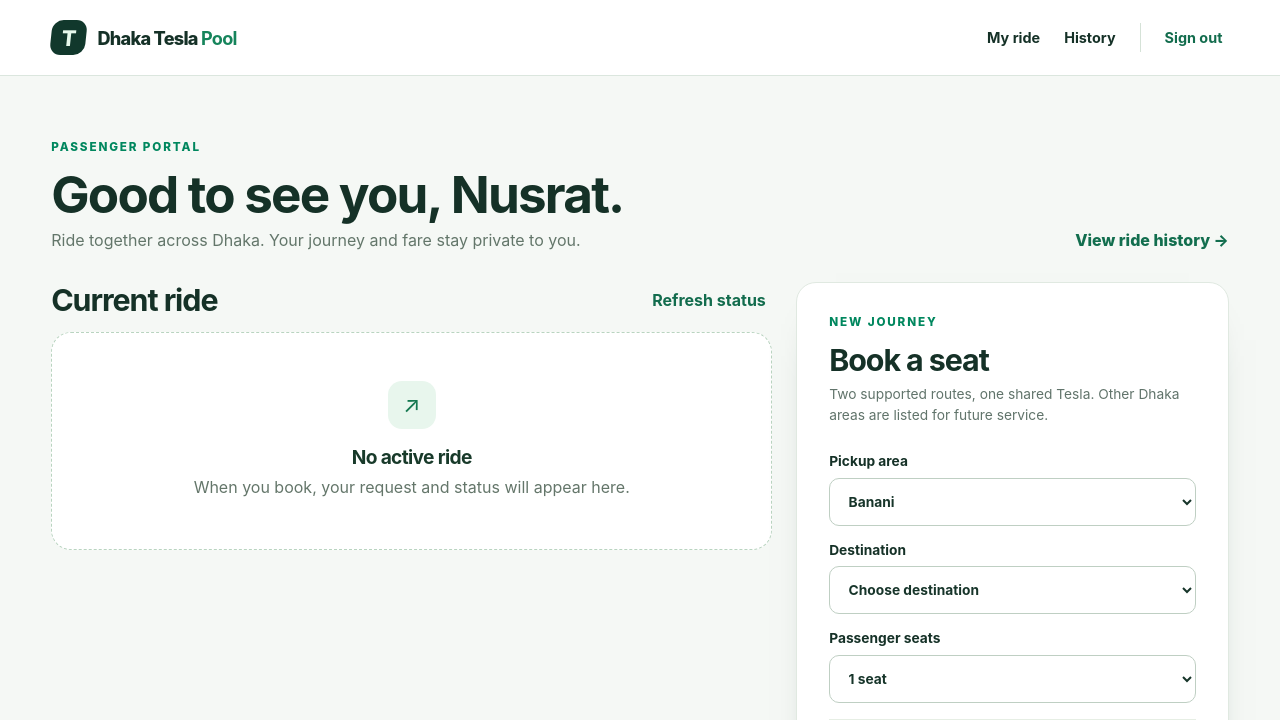
frontend API flows › returns to sign in when an authenticated request reports session expiry
Expected: the heading "No active ride" is shown, left=352, top=445, right=472, bottom=469
Click the button "Refresh status": {"x": 709, "y": 300} left=646, top=284, right=772, bottom=316
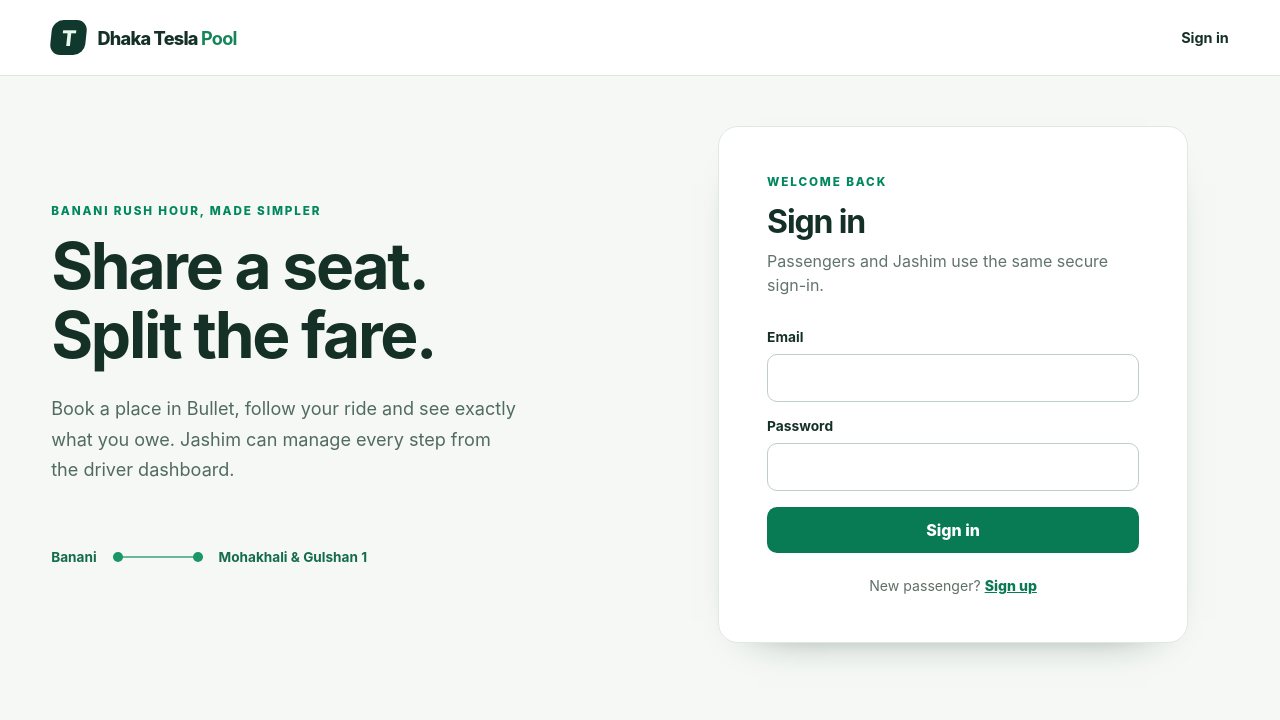
Expected: the heading "Sign in" is shown, left=767, top=202, right=865, bottom=241
